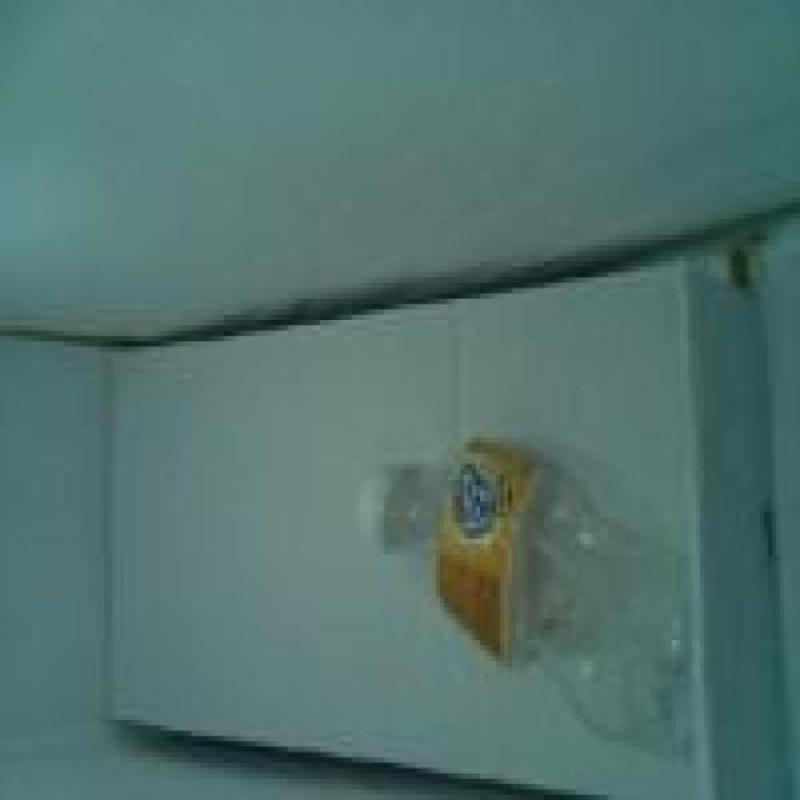botella: (356, 435, 696, 754)
